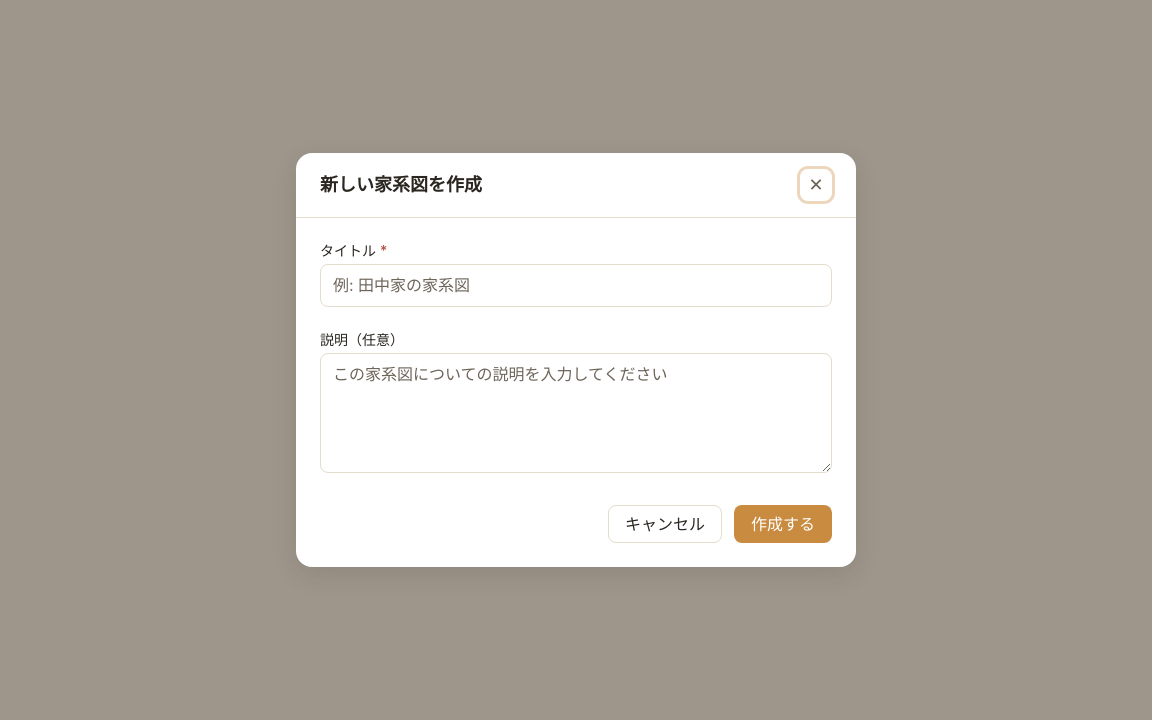
Test: CreateTreeModal › エラーハンドリング › PLAN_LIMIT_EXCEEDED の場合「上限に達しました」UIが表示されること
Type "テストツリー" into the field labelled "タイトル*".
click(576, 285); type("テストツリー")  # box top-left (321, 264), bottom-right (831, 306)
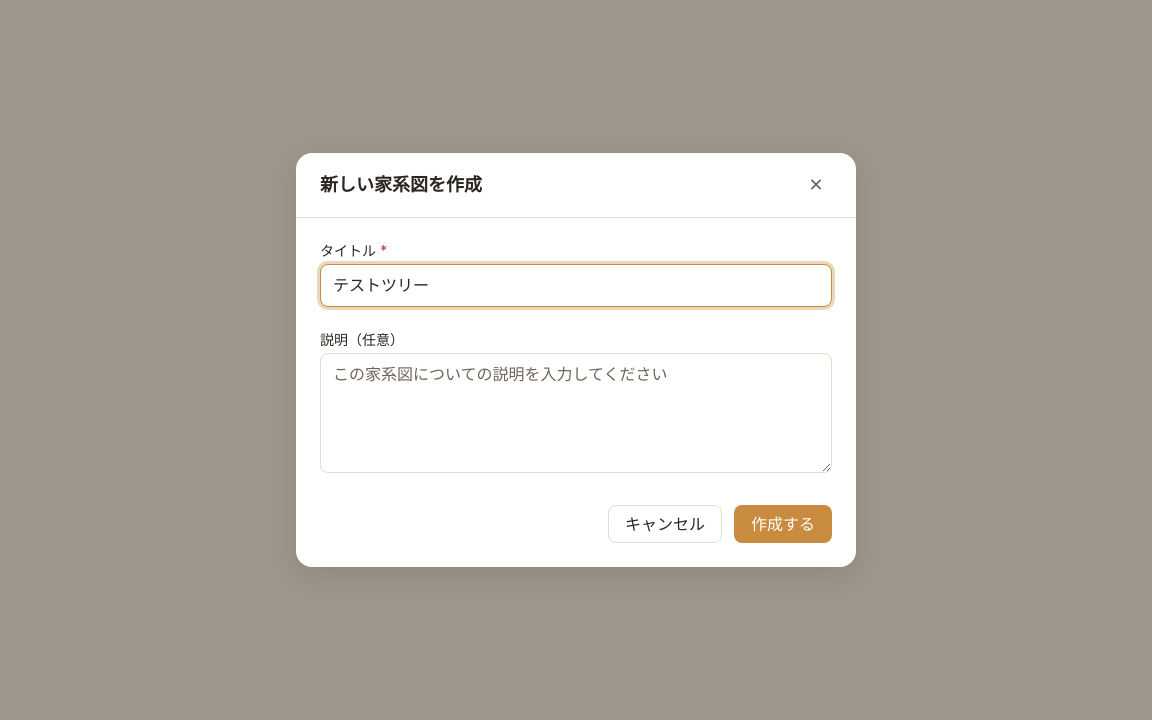
Click the button "作成する".
click(783, 524)  # box top-left (734, 505), bottom-right (832, 543)
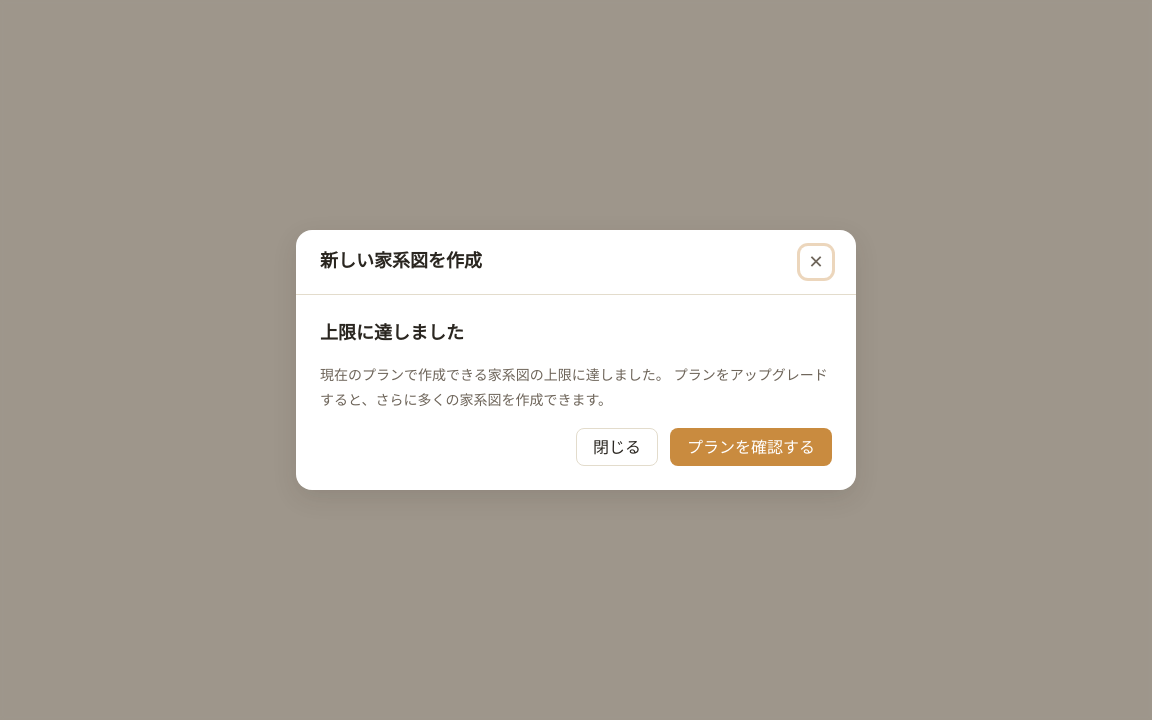
Now the text "上限に達しました" is shown, box top-left (320, 322), bottom-right (464, 343)
